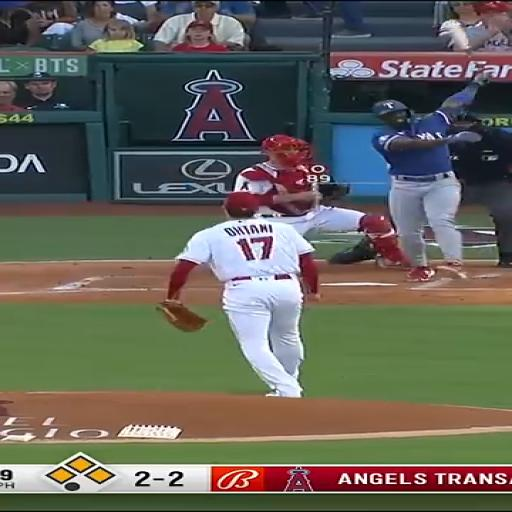bat: (443, 18, 480, 71)
